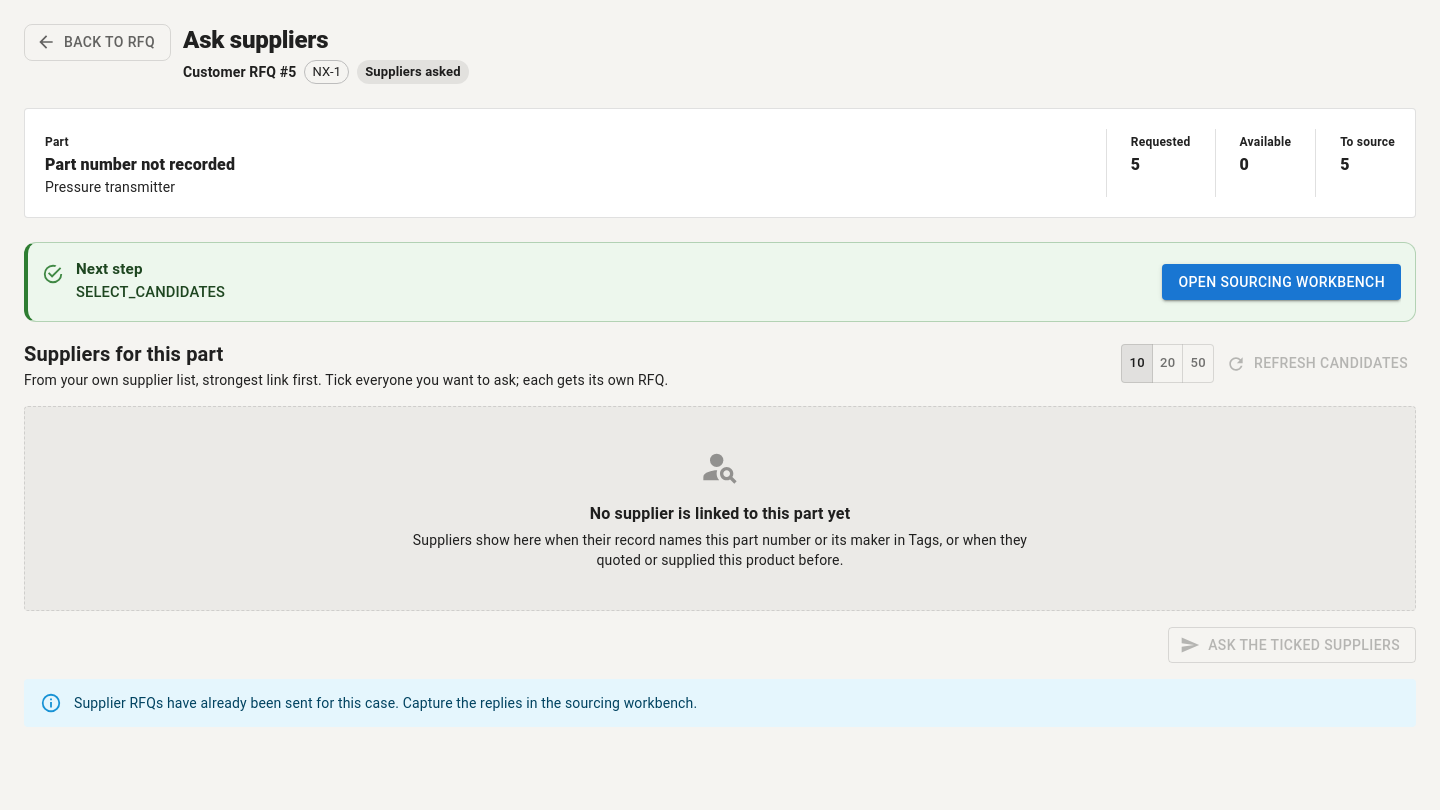
Test: SourcingCasePage — Refresh candidates says why it is disabled › says the step has passed once a Supplier RFQ has been prepared
Hover over the element showing "Refresh candidates".
mouse_move(1319, 364)  # box [1222, 346, 1416, 382]
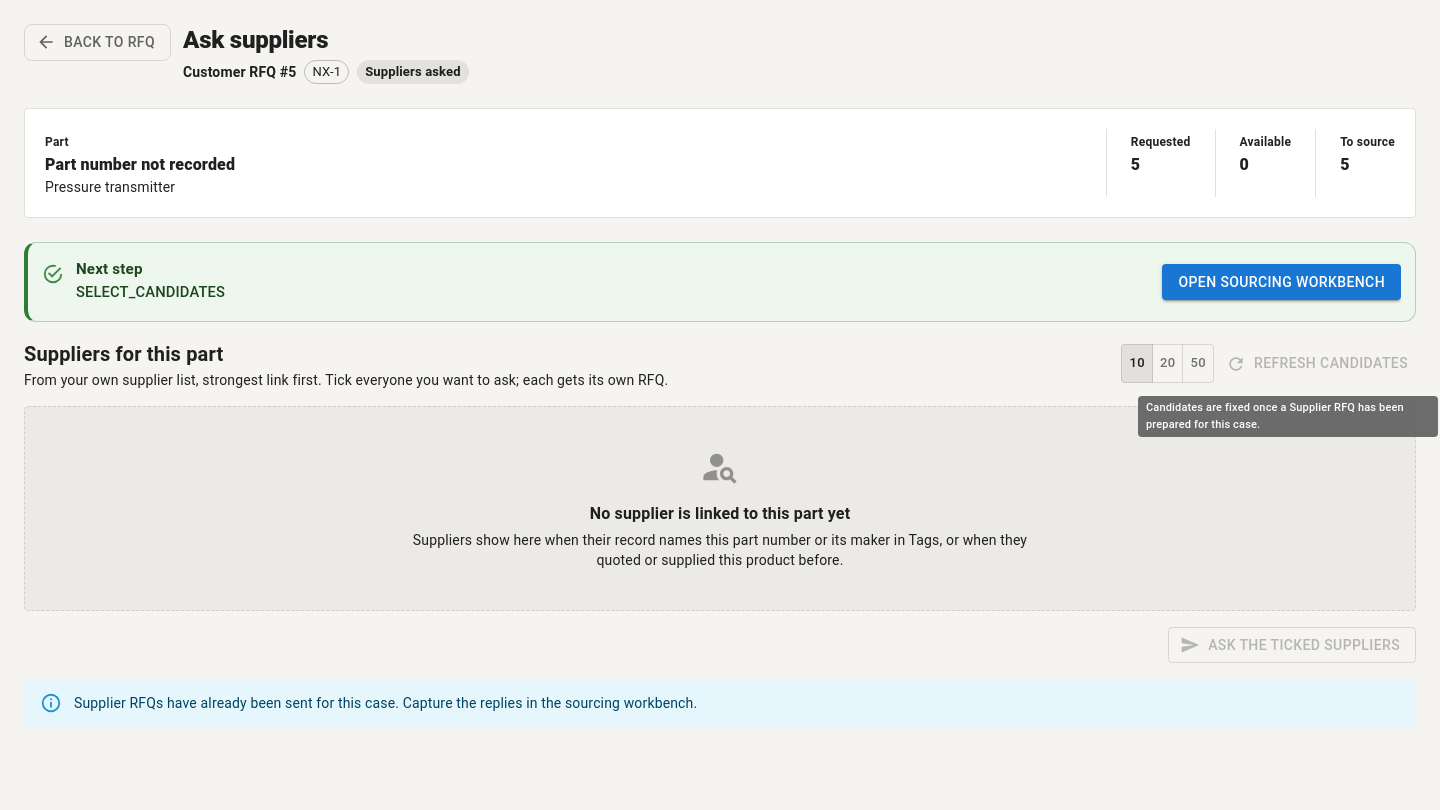
Check: the text "Candidates are fixed once a Supplier RFQ has been prepared" is shown, box [1146, 401, 1404, 430]
